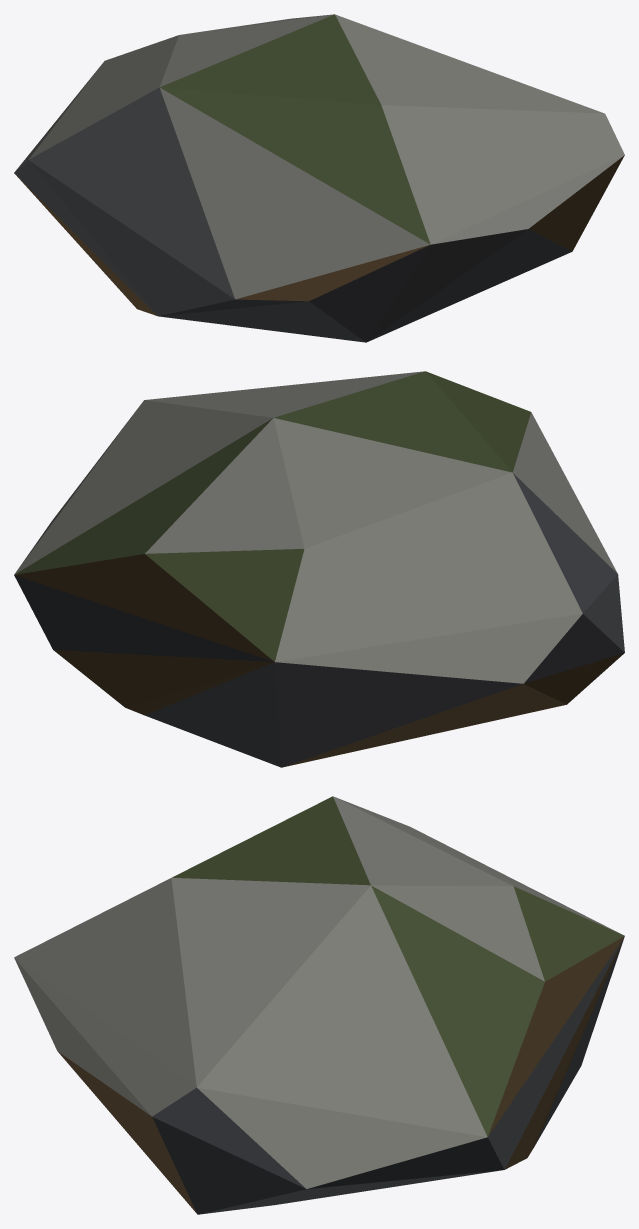
The model's file is rock_large.glb.
3 renders of one model, top to bottom at view 1: azimuth 30°, elevation 25°; view 2: azimuth 150°, elevation 25°; view 3: azimuth 270°, elevation 25°, orthographic. The views are drawn at different scales.
Visible parts, largest first — view 1: rock_large; view 2: rock_large; view 3: rock_large.
Part boxes in pixels (left/top/right/bottom): rock_large: left=14, top=14, right=624, bottom=342; rock_large: left=14, top=371, right=624, bottom=767; rock_large: left=14, top=796, right=624, bottom=1214.
Size of the model in its own units: 1.17 by 0.4849 by 1.1.
